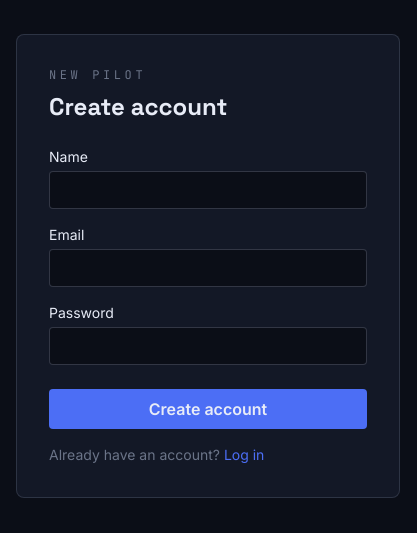
Test: RegisterPage › shows the server error message when registration fails
Type "Ada Lovelace" into the field labelled "Name". click: (208, 190)
box: left=49, top=171, right=367, bottom=209
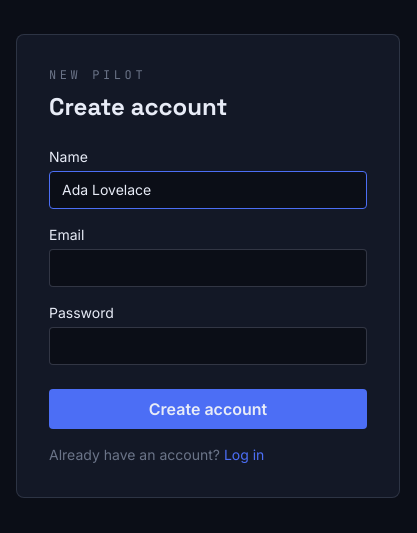
Type "ada@example.com" into the field labelled "Email". click: (208, 268)
box: left=49, top=249, right=367, bottom=287
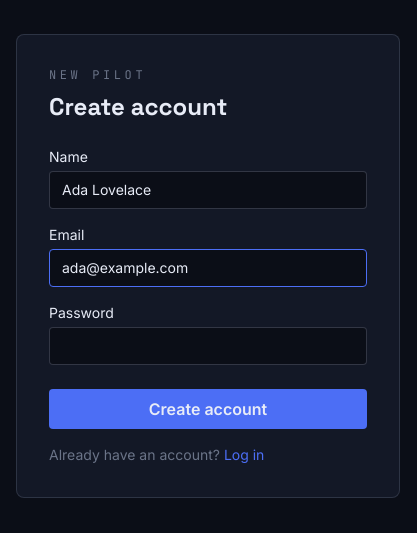
Type "secret123" into the password field labelled "Password". click: (208, 346)
box: left=49, top=327, right=367, bottom=365
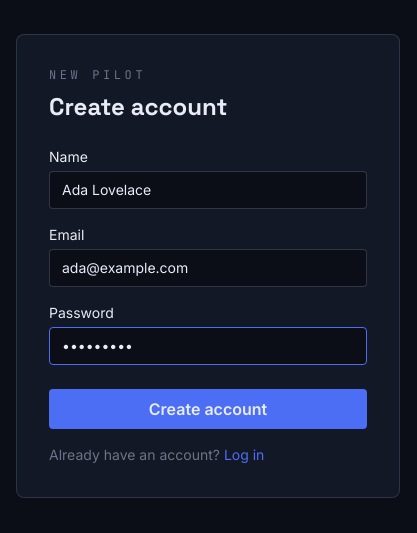
Click the button "Create account". click: (208, 409)
box: left=49, top=389, right=367, bottom=429
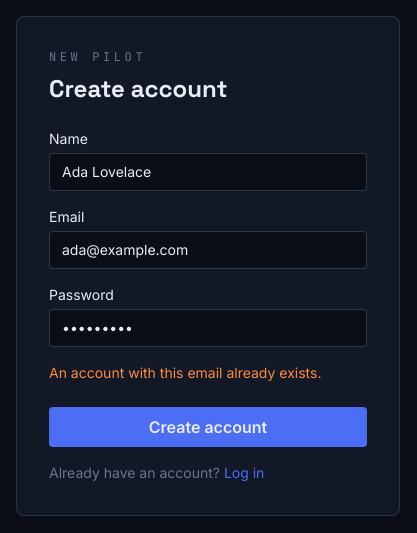
Expected: the text "An account with this email already exists." is shown, left=49, top=363, right=367, bottom=383
